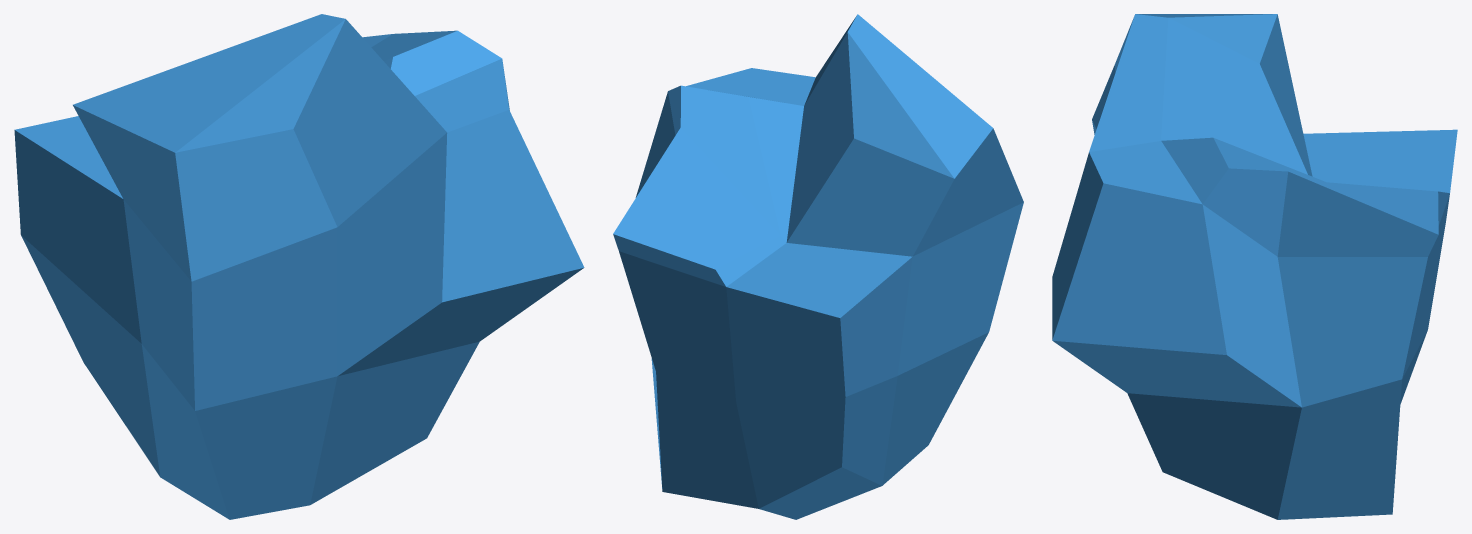
File: Iceberg 2.fbx
The picture shows the model from 3 angles, left to right: view 1: azimuth 30°, elevation 25°; view 2: azimuth 150°, elevation 25°; view 3: azimuth 270°, elevation 25°; orthographic projection. The views are drawn at different scales.
Visible parts, largest first — view 1: Cube.001; view 2: Cube.001; view 3: Cube.001.
Part boxes in pixels (box(x1,y1,x2,y2)): Cube.001: box(14, 14, 584, 519); Cube.001: box(613, 14, 1023, 519); Cube.001: box(1052, 14, 1457, 519).
Bounding box in the file's own units: 591 × 734 × 539.
